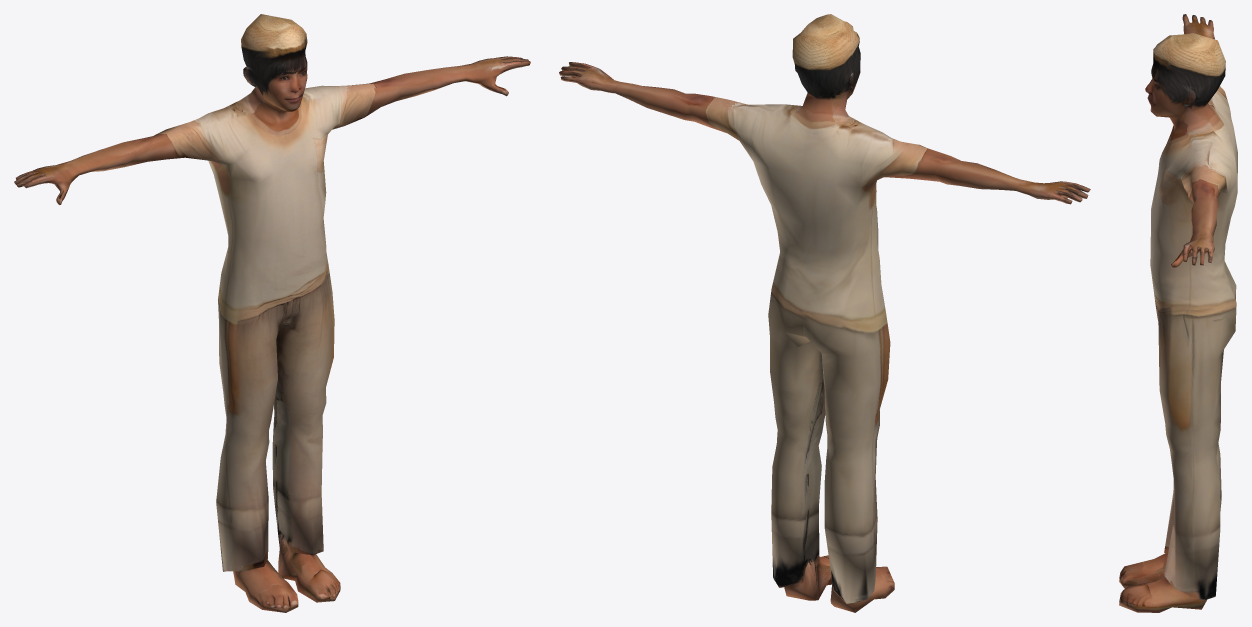
Rendered from _0803043039_texture.fbx.
The picture shows the model from 3 angles, left to right: view 1: azimuth 30°, elevation 25°; view 2: azimuth 150°, elevation 25°; view 3: azimuth 270°, elevation 25°; orthographic projection. The views are drawn at different scales.
Parts seen in each view (by area): view 1: input; view 2: input; view 3: input.
Part boxes in pixels (x1,y1,x2,y2): input: [14, 14, 530, 612]; input: [559, 14, 1090, 612]; input: [1119, 14, 1237, 612].
Bounding box in the file's own units: 190 × 200 × 38.53.
1 material, 1 textured.
